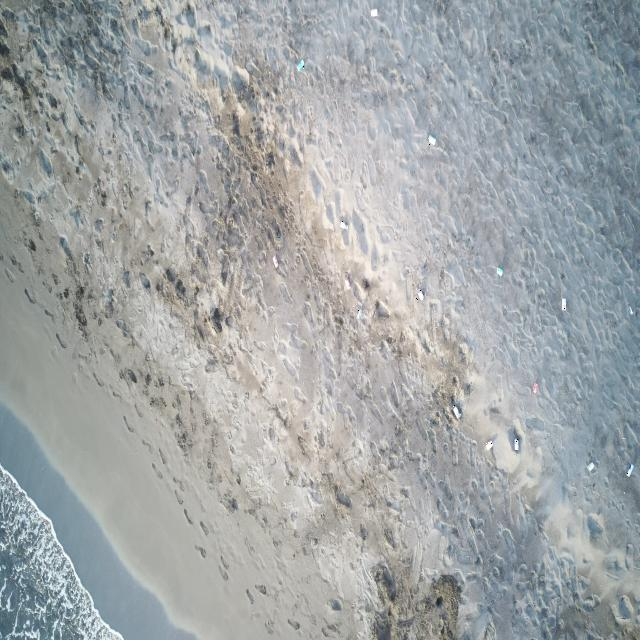Garbage: (587, 512, 603, 539), (375, 300, 387, 318), (452, 404, 460, 419), (512, 436, 519, 451), (495, 264, 503, 276), (427, 134, 435, 145), (415, 288, 422, 300), (626, 463, 633, 475), (272, 255, 278, 268), (296, 59, 303, 70), (560, 298, 566, 310), (344, 276, 350, 288), (356, 307, 362, 319), (484, 440, 492, 448), (369, 8, 376, 16), (340, 220, 347, 228), (532, 382, 537, 393), (587, 463, 593, 471), (627, 306, 632, 315)
